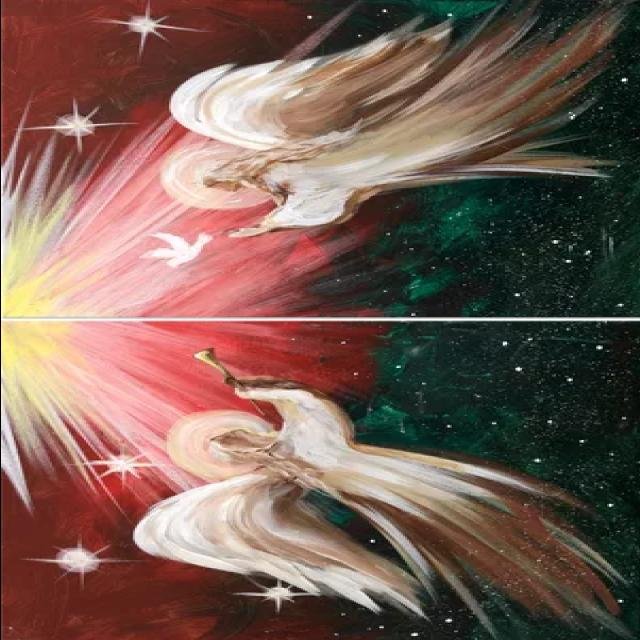angel: (132, 336, 620, 633)
